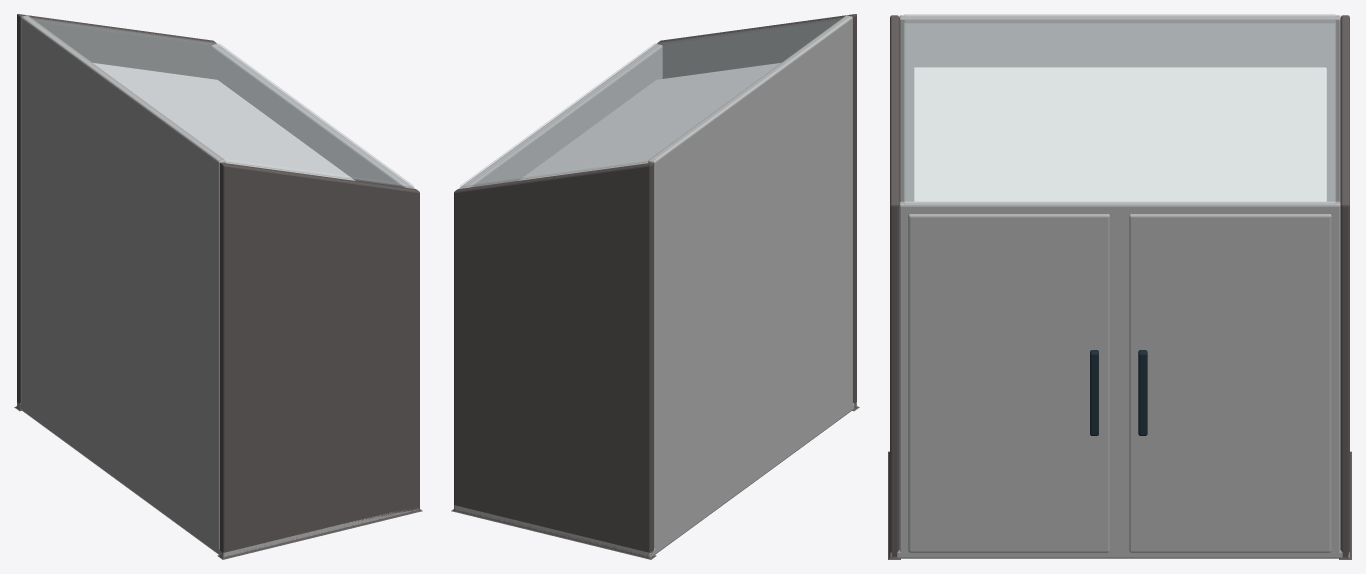
The model's file is SM_Prop_OutsideCabinet.fbx.
3 views of the same model, side by side, from view 1: azimuth 30°, elevation 25°; view 2: azimuth 150°, elevation 25°; view 3: azimuth 270°, elevation 25° (orthographic). The views are drawn at different scales.
Parts seen in each view (by area): view 1: Cabinet_Display_Base; view 2: Cabinet_Display_Base; view 3: Cabinet_Display_Base.
Boxes of the visible parts, <box> form: Cabinet_Display_Base: <box>14,14,422,559</box>; Cabinet_Display_Base: <box>451,14,859,559</box>; Cabinet_Display_Base: <box>888,14,1351,559</box>.
Size of the model in its own units: 0.584 by 1.05 by 1.01.
Materials: 4 (2 with a texture image).
